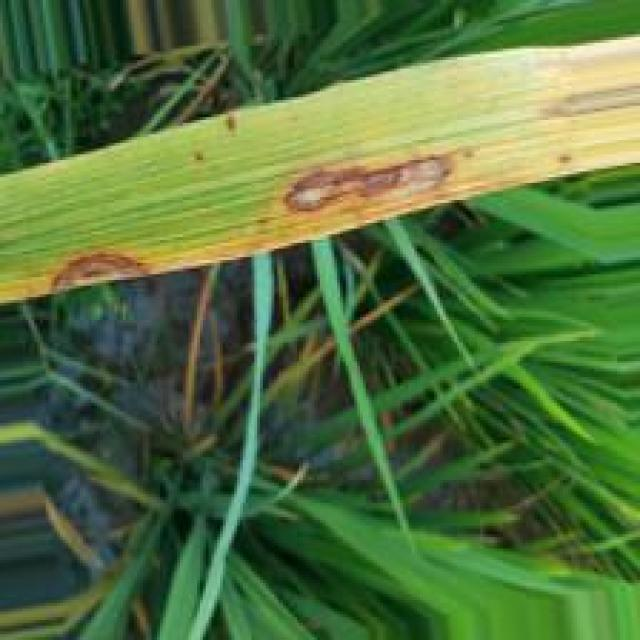Rice Tungro: (269, 140, 480, 215), (36, 249, 153, 297)
